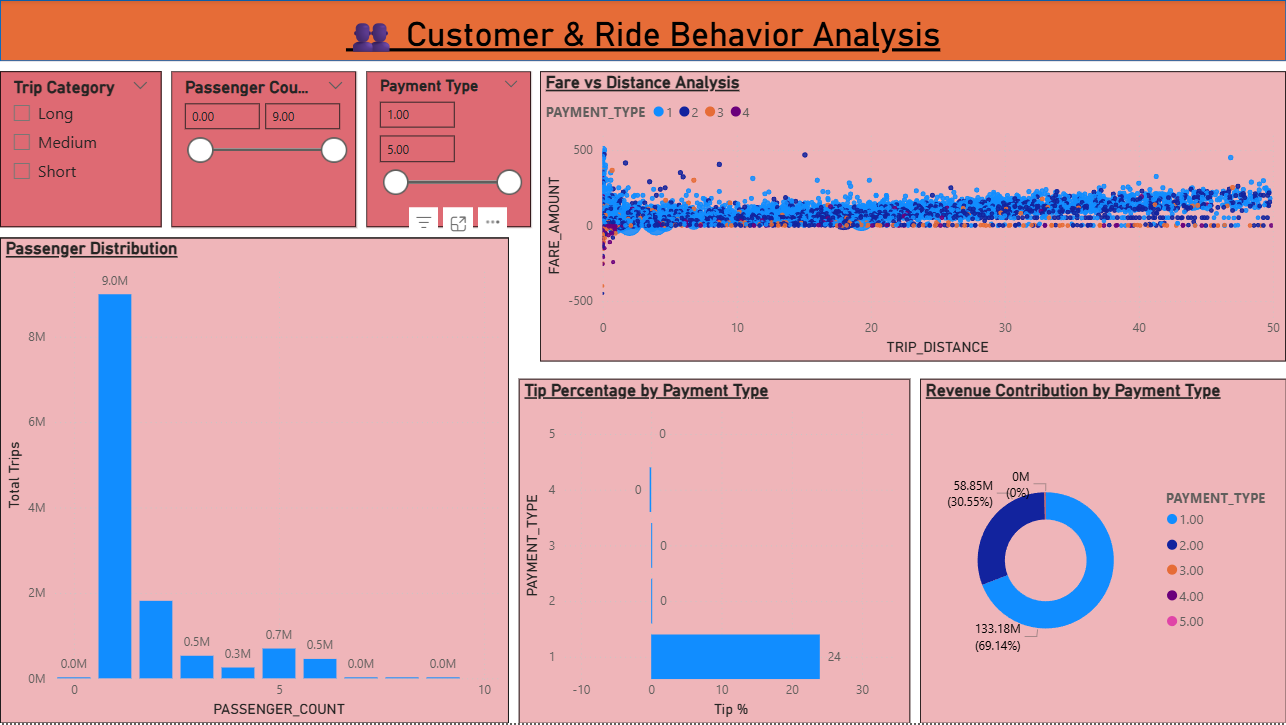

What the dashboard file says about the page in this screenshot:
{"tool":"powerbi","page":{"name":"Customer Behavior Insights","canvas":[1280,720],"ordinal":1},"visuals":[{"type":"shape","box":[0,0,1280,61],"z":0},{"type":"slicer","fields":{"Values":["TAXI_DATA.Trip Category"]},"box":[0,70.9,160.5,155.5],"z":1000},{"type":"slicer","fields":{"Values":["TAXI_DATA.PASSENGER_COUNT"]},"box":[170.4,70.9,184.1,155.5],"z":2000},{"type":"slicer","fields":{"Values":["TAXI_DATA.PAYMENT_TYPE"]},"box":[364.5,70.9,164.2,155.5],"z":3000},{"type":"scatterChart","title":"Fare vs Distance Analysis","fields":{"X":["TAXI_DATA.TRIP_DISTANCE"],"Y":["TAXI_DATA.FARE_AMOUNT"],"Size":["Sum(TAXI_DATA.TOTAL_AMOUNT)"],"Series":["TAXI_DATA.PAYMENT_TYPE"]},"box":[537.4,70.9,742.6,288.6],"z":4000},{"type":"clusteredColumnChart","title":"Passenger Distribution","fields":{"Y":["TAXI_DATA.Total Trips"],"Category":["TAXI_DATA.PASSENGER_COUNT"]},"box":[0,236.4,506.3,483.9],"z":5000},{"type":"clusteredBarChart","title":"Tip Percentage by Payment Type","fields":{"Category":["TAXI_DATA.PAYMENT_TYPE"],"Y":["TAXI_DATA.Tip %"]},"box":[516,377.4,389.7,343.1],"z":6000},{"type":"donutChart","title":"Revenue Contribution by Payment Type","fields":{"Category":["TAXI_DATA.PAYMENT_TYPE"],"Y":["TAXI_DATA.Total Revenue"]},"box":[915.3,377.4,365,343.1],"z":7000}]}

Visuals, with their boxes in screenshot pixels (x1, y1, x2, y2), scaled from the page's 1280x720 canvas onto the 1286x725 screenshot:
shape: rect(0, 0, 1285, 61)
slicer - TAXI_DATA.Trip Category: rect(0, 71, 161, 228)
slicer - TAXI_DATA.PASSENGER_COUNT: rect(171, 71, 356, 228)
slicer - TAXI_DATA.PAYMENT_TYPE: rect(366, 71, 531, 228)
"Fare vs Distance Analysis" scatterChart: rect(540, 71, 1285, 362)
"Passenger Distribution" clusteredColumnChart: rect(0, 238, 509, 724)
"Tip Percentage by Payment Type" clusteredBarChart: rect(518, 380, 910, 724)
"Revenue Contribution by Payment Type" donutChart: rect(920, 380, 1285, 724)
